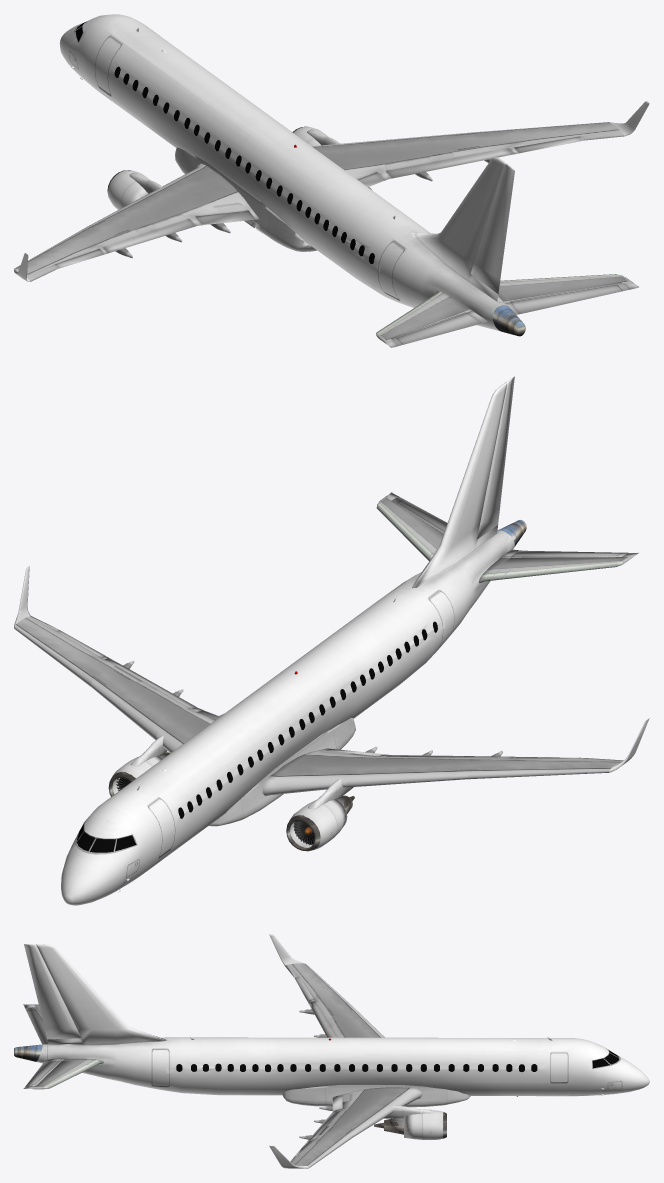
The picture shows the model from 3 angles, top to bottom: view 1: azimuth 30°, elevation 25°; view 2: azimuth 150°, elevation 25°; view 3: azimuth 270°, elevation 25°; orthographic projection. The views are drawn at different scales.
Parts seen in each view (by area): view 1: geardoor_b_r, hstab, geardoor_f_r, cylinder; view 2: geardoor_b_r, hstab, geardoor_f_r, cylinder; view 3: geardoor_b_r, hstab, geardoor_f_r, cylinder.
Boxes of the visible parts, left/top/right/bottom form: geardoor_b_r: left=14, top=14, right=649, bottom=331; hstab: left=15, top=23, right=638, bottom=347; geardoor_f_r: left=107, top=126, right=514, bottom=301; cylinder: left=75, top=21, right=374, bottom=263; geardoor_b_r: left=14, top=530, right=649, bottom=905; hstab: left=14, top=492, right=638, bottom=854; geardoor_f_r: left=108, top=376, right=514, bottom=851; cylinder: left=76, top=621, right=437, bottom=852; geardoor_b_r: left=36, top=934, right=649, bottom=1168; hstab: left=14, top=963, right=620, bottom=1167; geardoor_f_r: left=24, top=944, right=446, bottom=1139; cylinder: left=176, top=1049, right=618, bottom=1071.
Size of the model in its own units: 28.2 by 10.22 by 35.83.
Materials: 8 (5 with a texture image).
